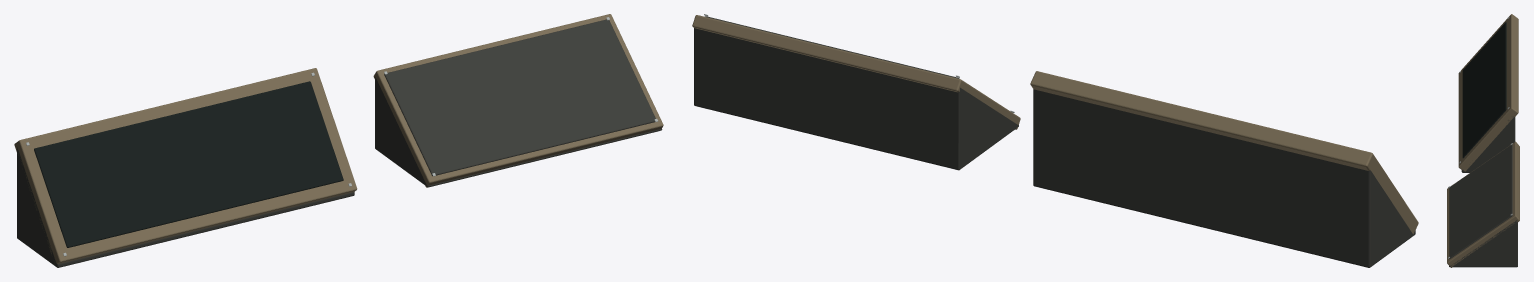
Rendered from cockpit-pupitres.glb.
The picture shows the model from 3 angles, left to right: view 1: azimuth 30°, elevation 25°; view 2: azimuth 150°, elevation 25°; view 3: azimuth 270°, elevation 25°; orthographic projection. The views are drawn at different scales.
Visible parts, largest first — view 1: Pupitres_Cockpit; view 2: Pupitres_Cockpit; view 3: Pupitres_Cockpit.
Part boxes in pixels (x1,y1,x2,y2): Pupitres_Cockpit: (14,14,663,267); Pupitres_Cockpit: (692,14,1418,267); Pupitres_Cockpit: (1447,14,1519,267).
Size of the model in its own units: 7.1 by 1.15 by 1.16.
